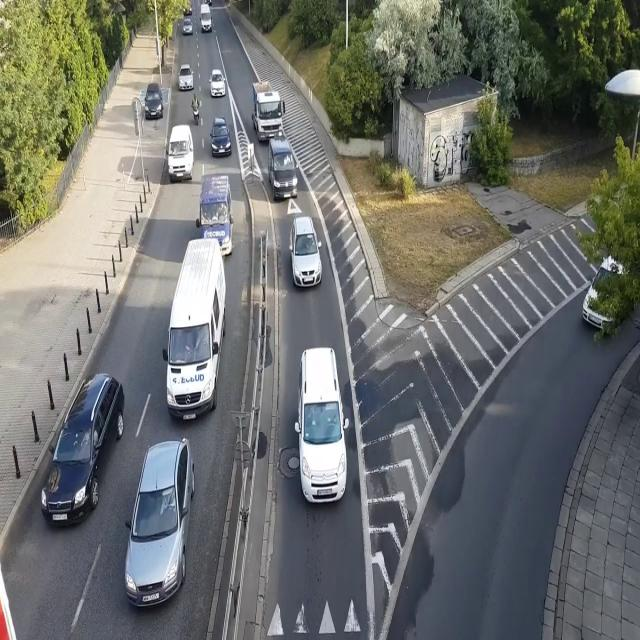car: (40, 369, 125, 530), (124, 438, 196, 611), (287, 214, 322, 289), (209, 116, 232, 160), (144, 81, 165, 120), (208, 68, 226, 100), (177, 63, 194, 90), (182, 17, 194, 36), (181, 4, 194, 15)
motorcycle: (191, 93, 200, 124)
truck: (250, 78, 285, 144)
van: (162, 236, 228, 424), (294, 346, 350, 504), (582, 254, 639, 334), (195, 172, 235, 256), (268, 138, 298, 202), (165, 122, 195, 180), (199, 3, 213, 35)
